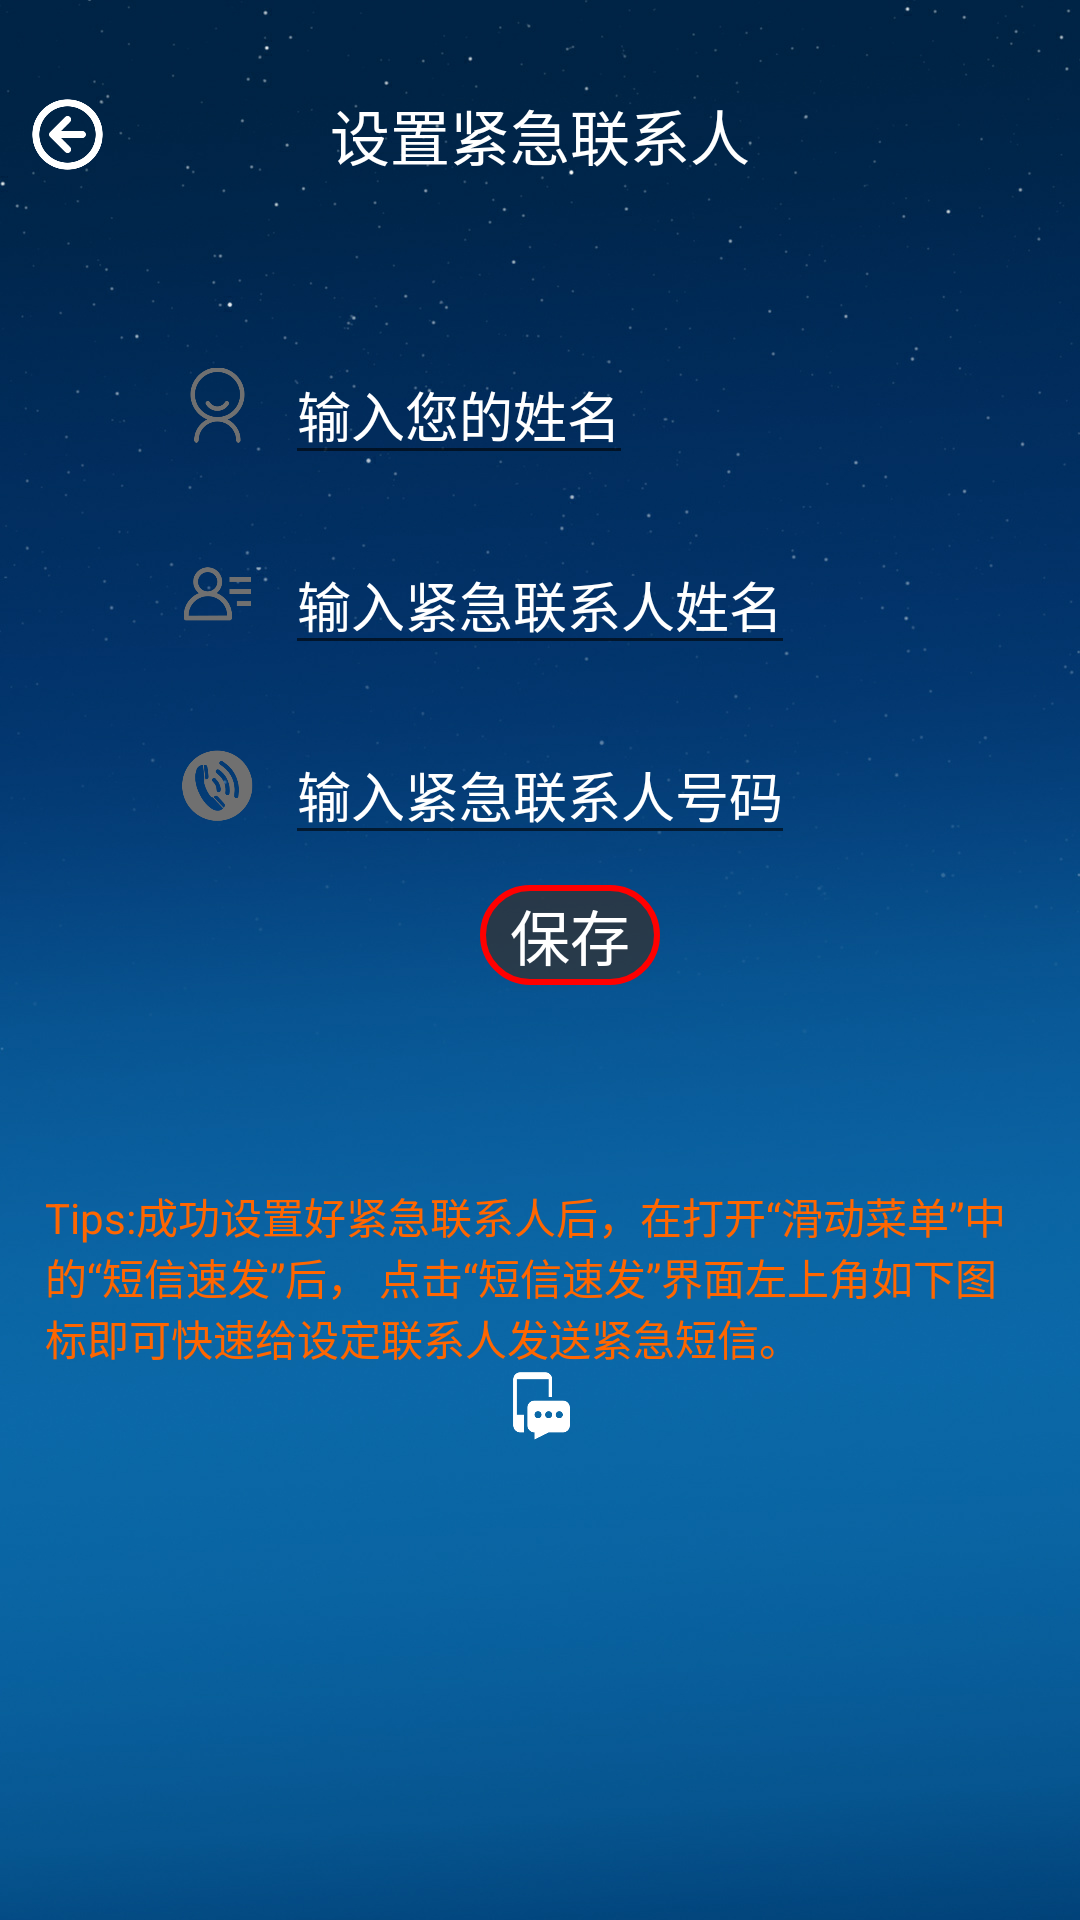

Named icons in this screenshot (1080w x 1920h) and their bounding boxes, (x1, y1, x2, y2):
back: (32, 99, 104, 171)
faduanxin: (513, 1372, 570, 1440)
lxrname: (184, 551, 251, 621)
number: (182, 750, 252, 821)
yourname: (187, 345, 245, 443)
